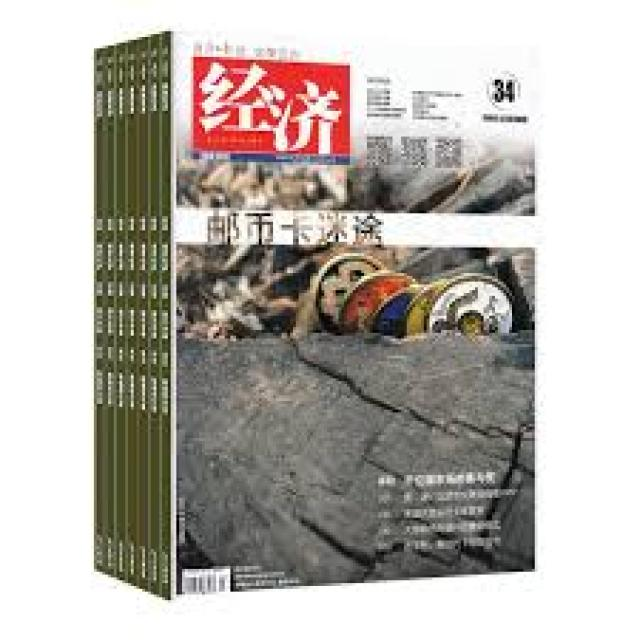paper: (94, 31, 532, 594)
